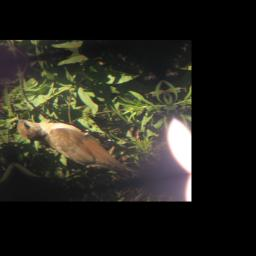Cuckoo: (12, 96, 149, 197)
